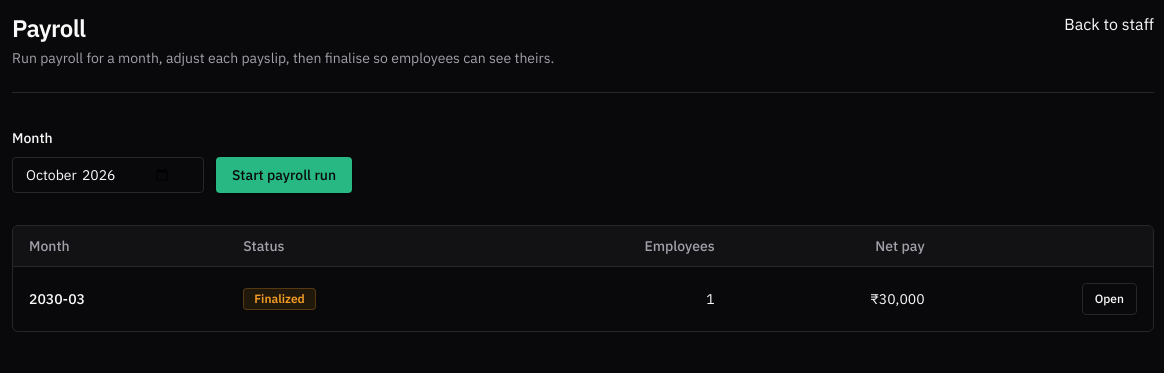
Scenario: payroll page › freezes a finalised run: no adjusting, but PDFs and payment remain
Click the button with aria-label "Open payroll for 2030-03" at (1109,298), box 1082,282 -> 1137,314
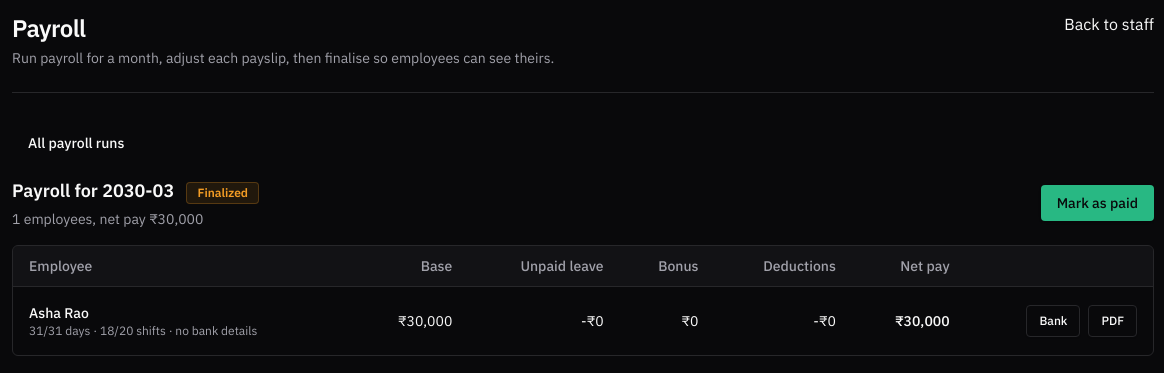
Now the button "Mark as paid" is shown, box 1041,185 -> 1154,221
